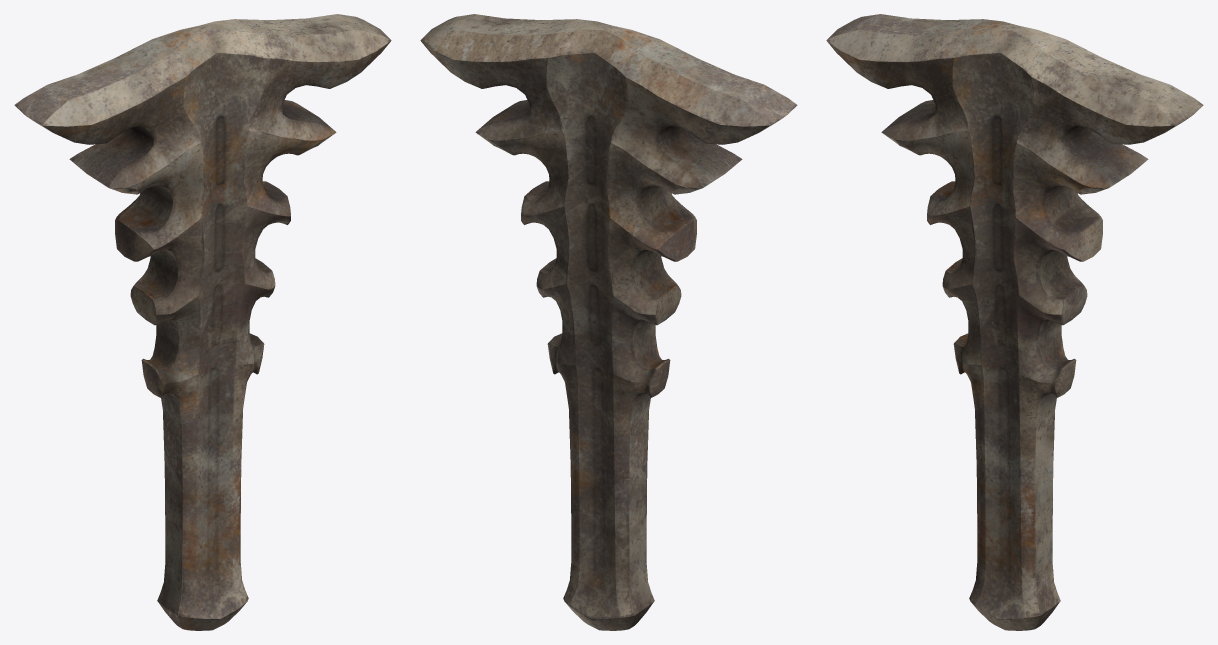
Rendered from wm_gundabad_mace_a02_blade.fbx.
3 views of the same model, side by side, from view 1: azimuth 30°, elevation 25°; view 2: azimuth 150°, elevation 25°; view 3: azimuth 330°, elevation 25° (orthographic).
Visible parts, largest first — view 1: wm_gundabad_mace_a02_blade; view 2: wm_gundabad_mace_a02_blade; view 3: wm_gundabad_mace_a02_blade.
Part boxes in pixels (x1,y1,x2,y2): wm_gundabad_mace_a02_blade: (14, 14, 391, 630); wm_gundabad_mace_a02_blade: (420, 14, 797, 630); wm_gundabad_mace_a02_blade: (826, 14, 1203, 630).
Bounding box in the file's own units: 0.3851 × 0.0841 × 0.6185.
1 material, 1 textured.
